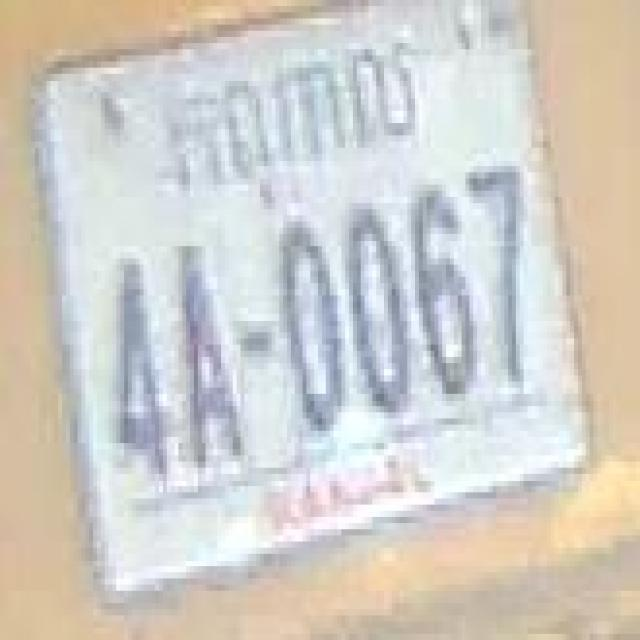Kandal: (167, 43, 422, 206)
